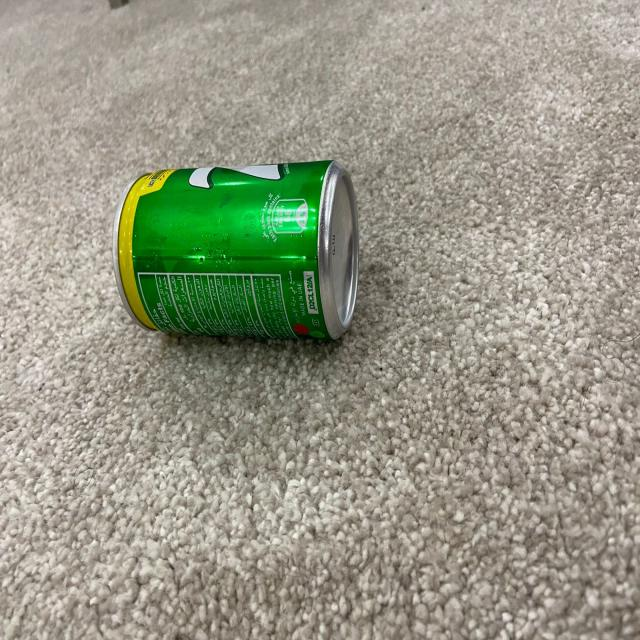metal-can: (109, 154, 363, 346)
